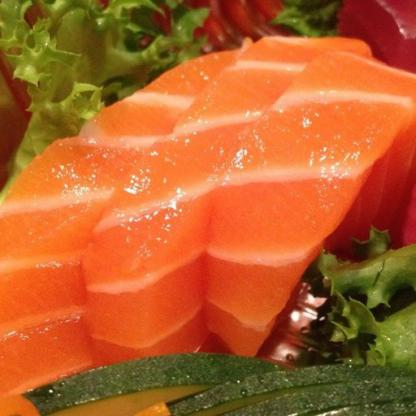salmon: (0, 33, 415, 415)
